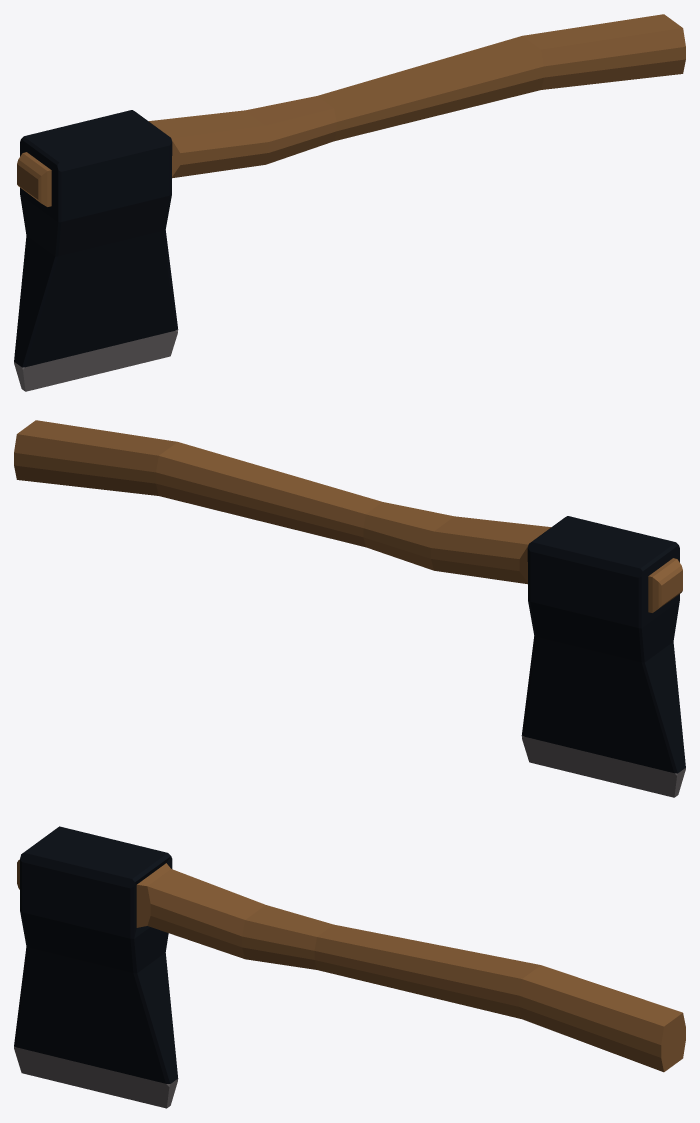
File: axe_lowpoly.fbx
The picture shows the model from 3 angles, top to bottom: view 1: azimuth 30°, elevation 25°; view 2: azimuth 150°, elevation 25°; view 3: azimuth 330°, elevation 25°; orthographic projection.
Parts seen in each view (by area): view 1: Axe; view 2: Axe; view 3: Axe.
Part boxes in pixels (x1,y1,x2,y2): Axe: [14, 14, 685, 391]; Axe: [14, 420, 685, 797]; Axe: [14, 826, 685, 1108].
Size of the model in its own units: 770 by 265 by 80.
